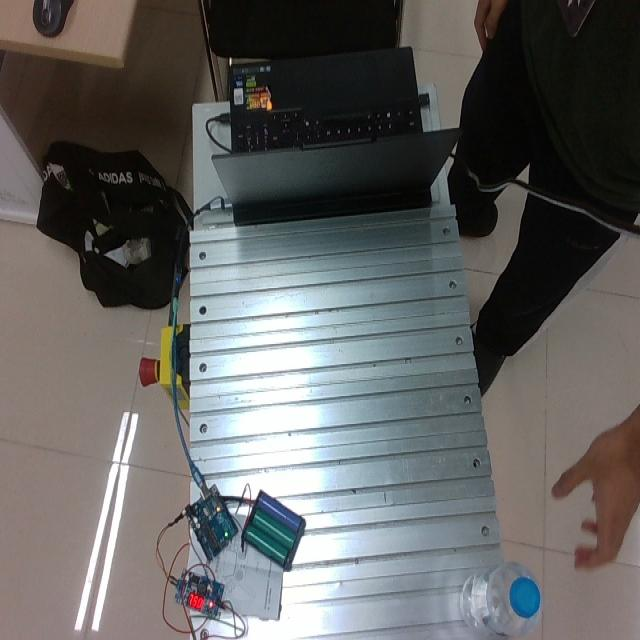lavie: (459, 561, 543, 636)
